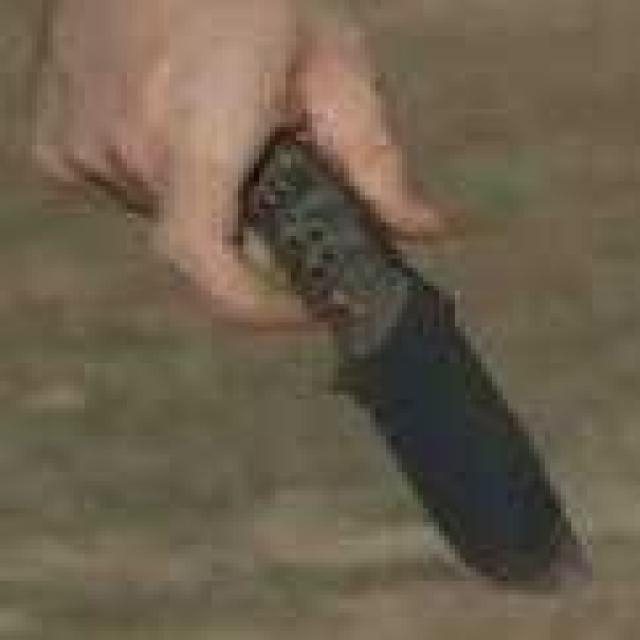knife: (59, 37, 614, 611)
